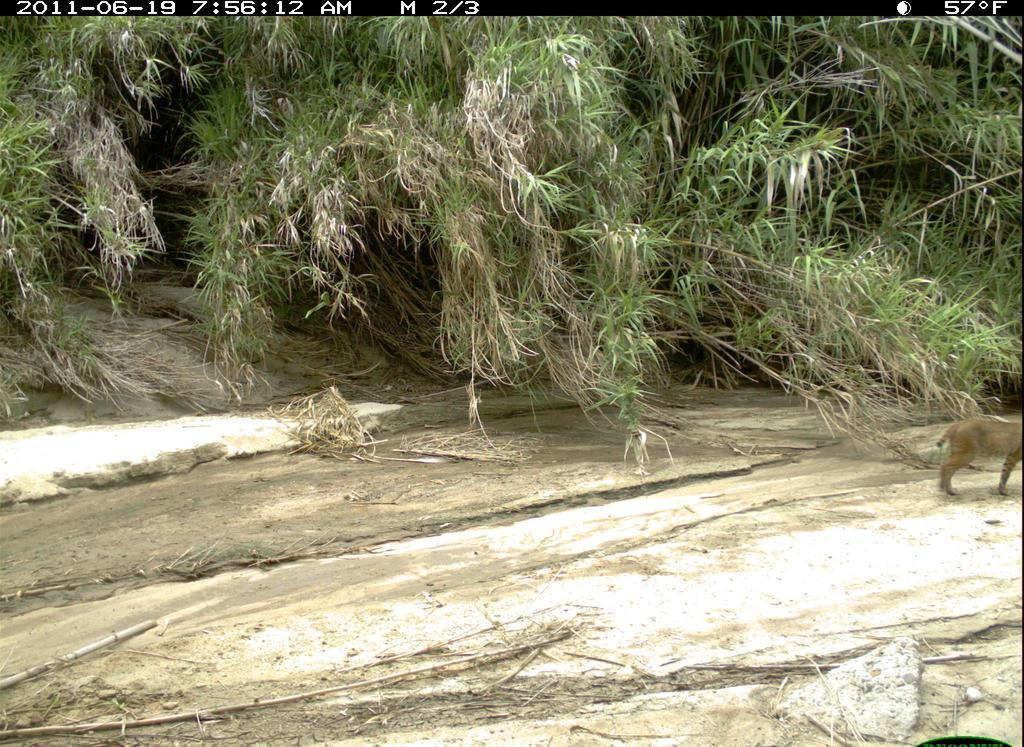bobcat: (935, 408, 1023, 500)
